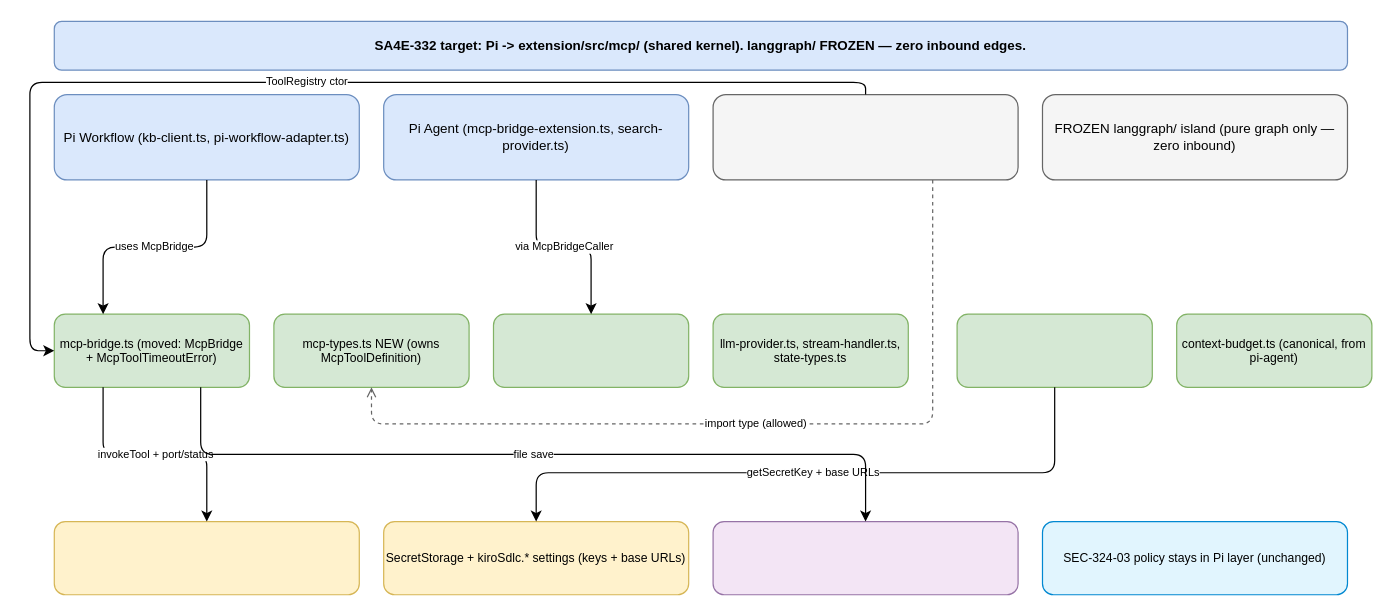
Image size: 1393x616. Some labels were removed from this diagram. Each missing label, with the centre of its shape:
"IServerManager / RemoteBackendClient (invokeTool, port, status)" belongs at (x=206, y=557).
"Legacy consumers (ToolRegistry, chat panels, Settings)" belongs at (x=865, y=136).
"mcp-bridge-caller.ts NEW (McpBridgeCaller adapter)" belongs at (x=590, y=350).
"providers/ (12 files, whole-dir mv)" belongs at (x=1054, y=350).
"Workspace disk (documents/tmp for _base64_file)" belongs at (x=865, y=557).
